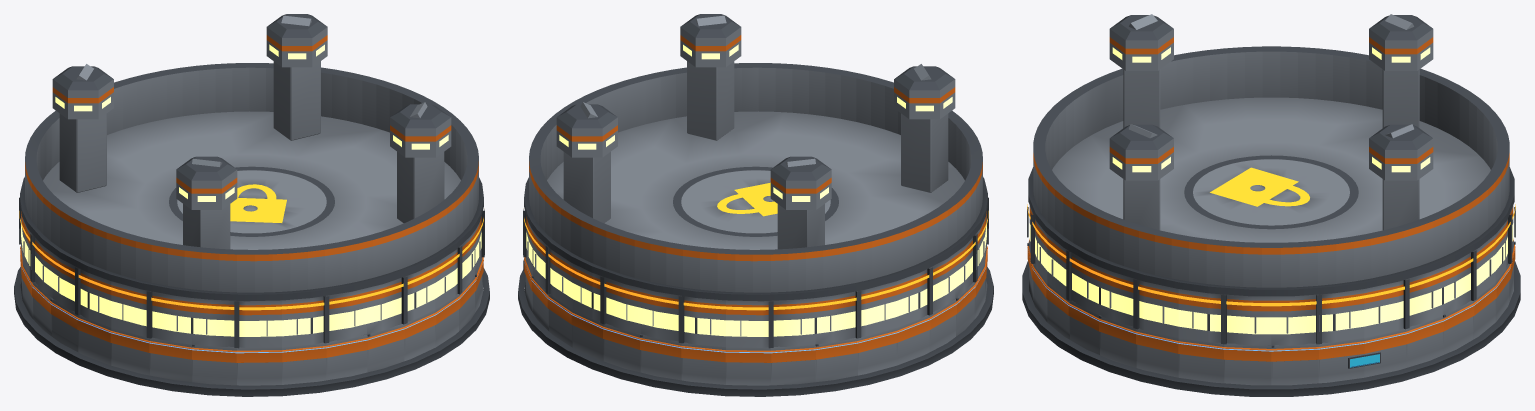
File: jail_m.glb
The picture shows the model from 3 angles, left to right: view 1: azimuth 30°, elevation 25°; view 2: azimuth 150°, elevation 25°; view 3: azimuth 270°, elevation 25°; orthographic projection. The views are drawn at different scales.
Visible parts, largest first — view 1: Roof, Base, PorchTop, Upper_21, Upper_20, Upper_22, Upper_19, Upper_23, Wall_21, Upper_24, Wall_20, Wall_22 (+19 smaller); view 2: Roof, Base, PorchTop, Upper_10, Upper_09, Upper_11, Upper_12, Upper_08, Wall_10, Upper_07, Wall_11, Wall_09 (+19 smaller); view 3: Roof, Base, PorchTop, Upper_00, Upper_31, Upper_01, Upper_30, Upper_02, Upper_29, Wall_00, Wall_31, Wall_30 (+19 smaller).
Part boxes in pixels (<box>): Roof: <box>20,14,483,301</box>; Base: <box>14,266,489,396</box>; PorchTop: <box>19,15,483,310</box>; Upper_21: <box>236,300,281,348</box>; Upper_20: <box>192,298,236,347</box>; Upper_22: <box>282,296,326,346</box>; Upper_19: <box>149,291,192,344</box>; Upper_23: <box>326,288,366,342</box>; Wall_21: <box>236,347,282,385</box>; Upper_24: <box>367,277,405,333</box>; Wall_20: <box>192,344,236,385</box>; Wall_22: <box>282,342,326,384</box>; Roof: <box>524,14,987,301</box>; Base: <box>518,266,993,396</box>; PorchTop: <box>524,15,988,310</box>; Upper_10: <box>726,300,771,348</box>; Upper_09: <box>681,296,725,346</box>; Upper_11: <box>771,298,815,347</box>; Upper_12: <box>815,291,858,344</box>; Upper_08: <box>641,288,681,342</box>; Wall_10: <box>725,347,771,385</box>; Upper_07: <box>602,277,640,333</box>; Wall_11: <box>771,344,815,385</box>; Wall_09: <box>681,342,725,384</box>; Roof: <box>1028,15,1514,296</box>; Base: <box>1022,261,1520,396</box>; PorchTop: <box>1027,14,1515,306</box>; Upper_00: <box>1271,294,1319,345</box>; Upper_31: <box>1223,294,1271,345</box>; Upper_01: <box>1318,289,1364,344</box>; Upper_30: <box>1178,289,1224,344</box>; Upper_02: <box>1364,279,1407,337</box>; Upper_29: <box>1135,279,1178,337</box>; Wall_00: <box>1271,343,1318,385</box>; Wall_31: <box>1224,343,1271,385</box>; Wall_30: <box>1178,338,1224,383</box>.
Bounding box in the file's own units: 14.75 × 7.13 × 14.75.
